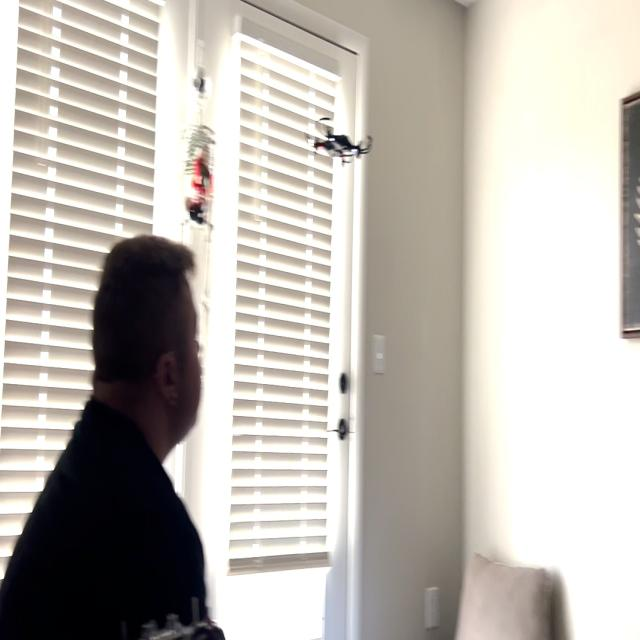drone: (300, 109, 380, 174)
